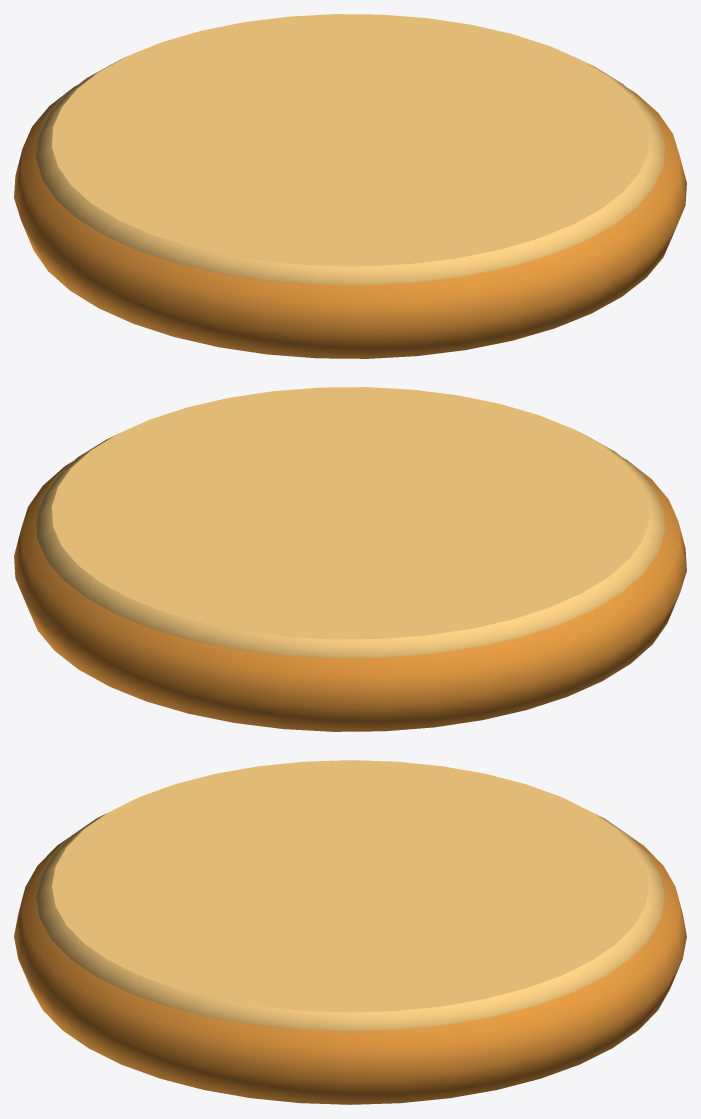
File: bun_bottom.glb
3 views of the same model, one above another, from view 1: azimuth 30°, elevation 25°; view 2: azimuth 150°, elevation 25°; view 3: azimuth 270°, elevation 25° (orthographic).
Parts seen in each view (by area): view 1: Toasted cut surface, Toasted lower bun; view 2: Toasted cut surface, Toasted lower bun; view 3: Toasted cut surface, Toasted lower bun.
Boxes of the visible parts, bbox=[...] form: Toasted cut surface: bbox=[36, 14, 664, 285]; Toasted lower bun: bbox=[14, 85, 686, 358]; Toasted cut surface: bbox=[36, 387, 664, 658]; Toasted lower bun: bbox=[14, 458, 686, 731]; Toasted cut surface: bbox=[36, 760, 664, 1031]; Toasted lower bun: bbox=[14, 837, 686, 1104].
Size of the model in its own units: 0.462 by 0.074 by 0.462.
